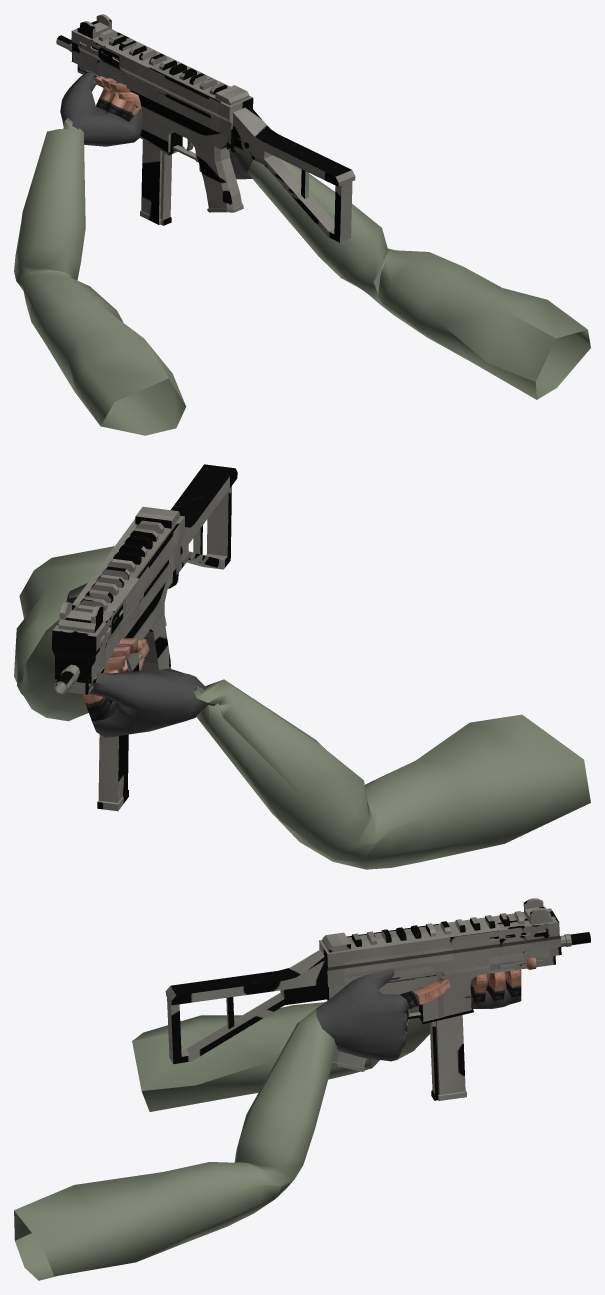
File: gun_mp7.glb
3 views of the same model, one above another, from view 1: azimuth 30°, elevation 25°; view 2: azimuth 150°, elevation 25°; view 3: azimuth 270°, elevation 25° (orthographic). The views are drawn at different scales.
Parts seen in each view (by area): view 1: body_sleeve, body_QUAT, body_glove, mag_QUAT, body_QUATP, body_ARMS; view 2: body_sleeve, body_QUAT, body_glove, body_QUATP, mag_QUAT, body_ARMS; view 3: body_sleeve, body_QUAT, body_glove, mag_QUAT, body_ARMS, body_QUATP.
Part boxes in pixels (x1=…): body_sleeve: x1=14, y1=117, x2=590, y2=435; body_QUAT: x1=56, y1=14, x2=355, y2=242; body_glove: x1=60, y1=71, x2=252, y2=179; mag_QUAT: x1=141, y1=140, x2=171, y2=224; body_QUATP: x1=98, y1=29, x2=227, y2=150; body_ARMS: x1=93, y1=76, x2=201, y2=171; body_sleeve: x1=14, y1=546, x2=590, y2=869; body_QUAT: x1=52, y1=464, x2=237, y2=694; body_glove: x1=66, y1=583, x2=215, y2=737; body_QUATP: x1=74, y1=520, x2=163, y2=612; mag_QUAT: x1=98, y1=734, x2=128, y2=804; body_ARMS: x1=69, y1=597, x2=149, y2=721; body_sleeve: x1=14, y1=1002, x2=430, y2=1280; body_QUAT: x1=165, y1=898, x2=590, y2=1071; body_glove: x1=316, y1=967, x2=536, y2=1061; mag_QUAT: x1=430, y1=1015, x2=465, y2=1098; body_ARMS: x1=400, y1=957, x2=535, y2=1037; body_QUATP: x1=351, y1=911, x2=524, y2=946.
Size of the model in its own units: 74.27 by 40.16 by 79.74.
Materials: 5 (3 with a texture image).
